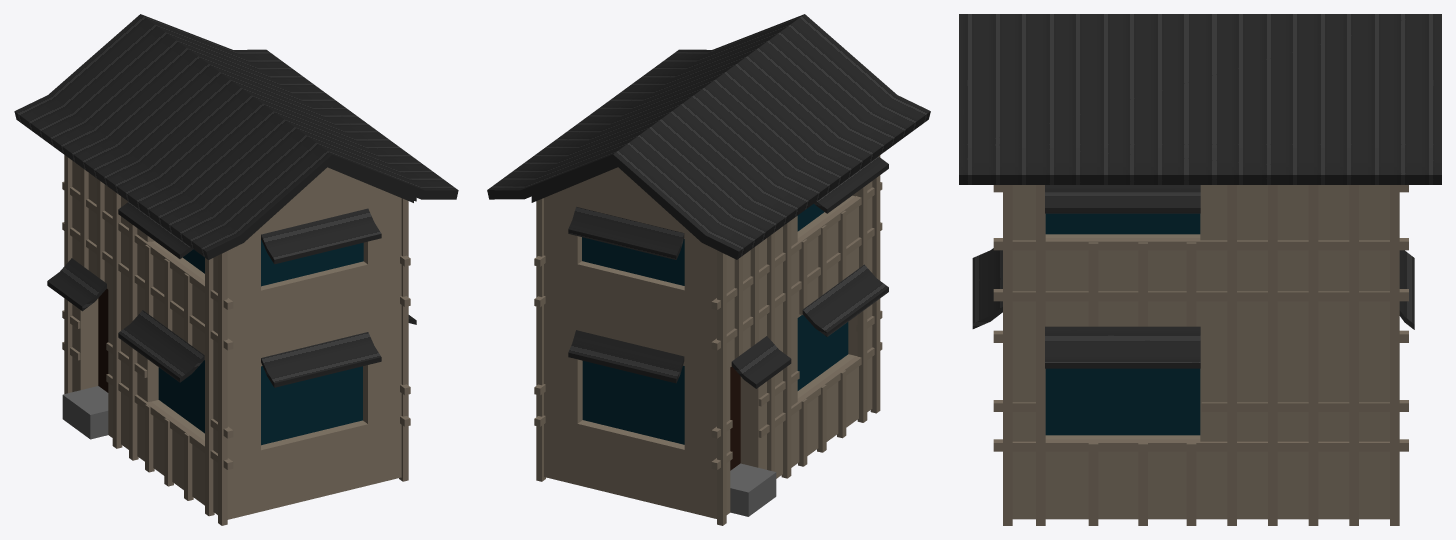
Rendered from m_house1.fbx.
3 renders of one model, left to right at view 1: azimuth 30°, elevation 25°; view 2: azimuth 150°, elevation 25°; view 3: azimuth 270°, elevation 25°, orthographic. The views are drawn at different scales.
Visible parts, largest first — view 1: house1; view 2: house1; view 3: house1.
Part boxes in pixels (x1,y1,x2,y2): house1: [14, 14, 458, 525]; house1: [487, 14, 930, 525]; house1: [959, 14, 1441, 525].
Size of the model in its own units: 220 by 301 by 290.
